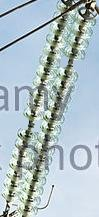gap: (57, 47, 86, 83), (16, 107, 43, 144)
